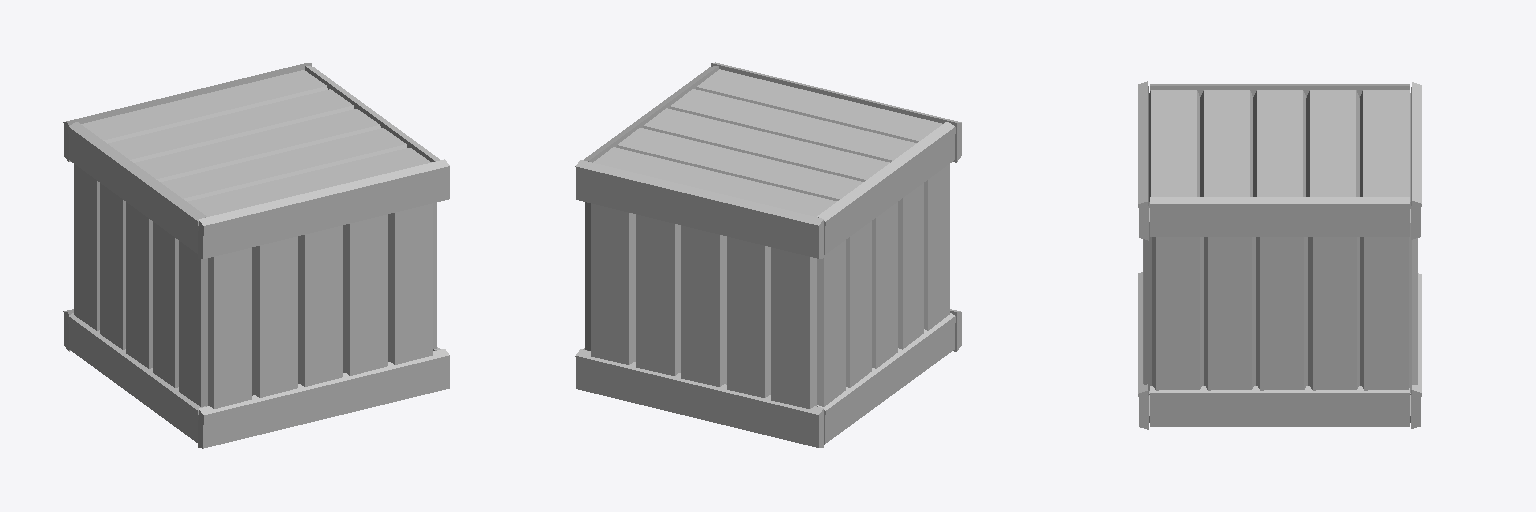
Rendered from Wabble_Crate.obj.
The picture shows the model from 3 angles: view 1: azimuth 30°, elevation 25°; view 2: azimuth 150°, elevation 25°; view 3: azimuth 270°, elevation 25°; orthographic projection.
Visible parts, largest first — view 1: Wabble_Crate.001; view 2: Wabble_Crate.001; view 3: Wabble_Crate.001.
Boxes of the visible parts, box(x1,y1,x2,y2) form: Wabble_Crate.001: box(63, 63, 449, 448); Wabble_Crate.001: box(575, 62, 961, 447); Wabble_Crate.001: box(1138, 81, 1421, 429).
Bounding box in the file's own units: 1.05 × 0.938 × 1.05.